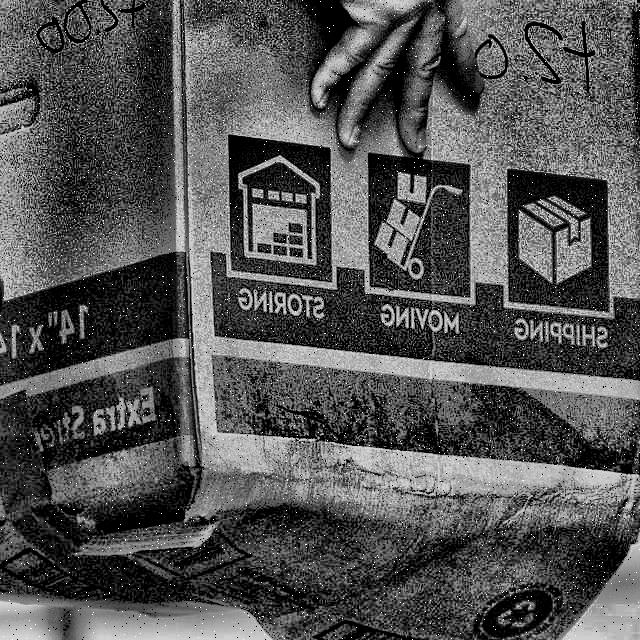box: (1, 0, 640, 639)
wet: (0, 458, 624, 640)
